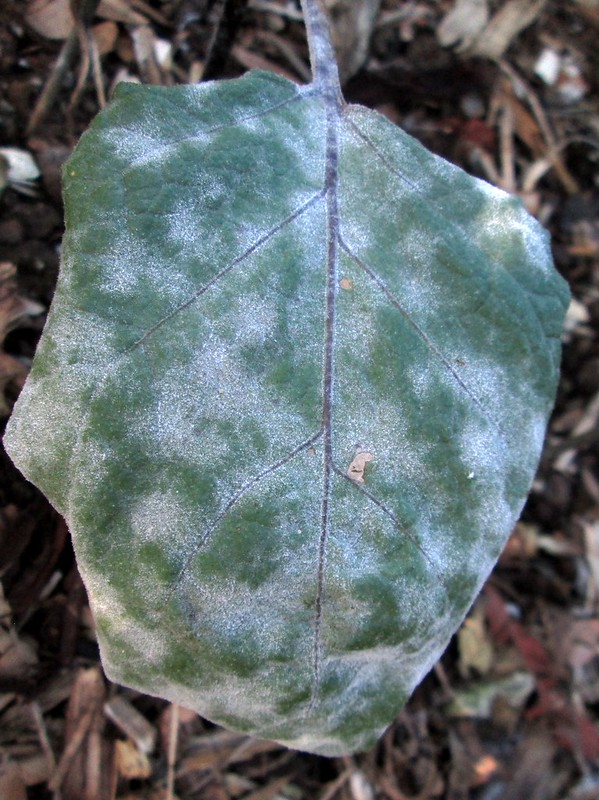Eggplant_PowderyMildew: (36, 96, 540, 734)
